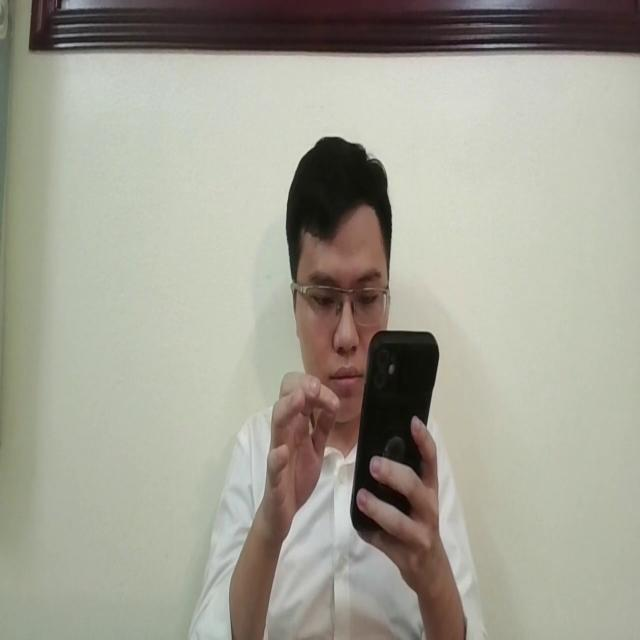phone: (349, 322, 439, 540)
student: (194, 124, 486, 640)
